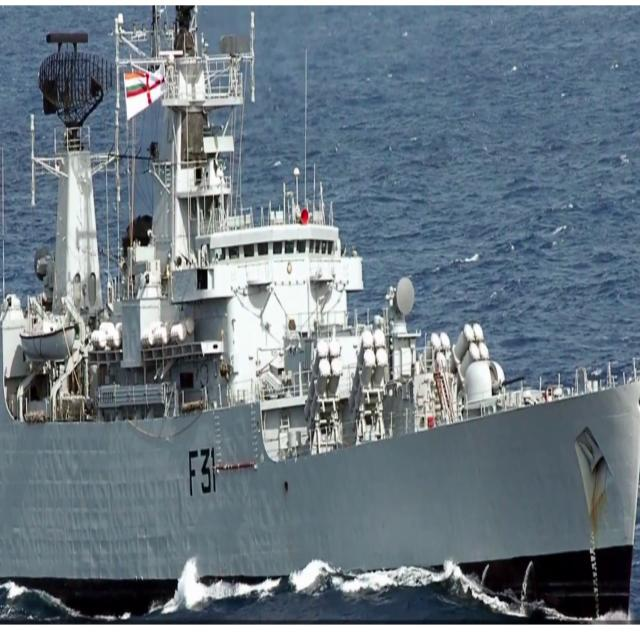OCR: (184, 440, 217, 499)
